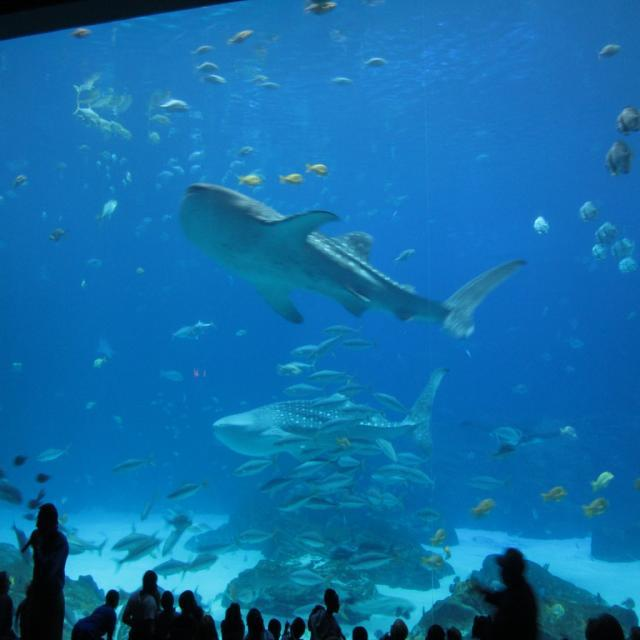Shark: (182, 182, 528, 337), (218, 364, 446, 454)
